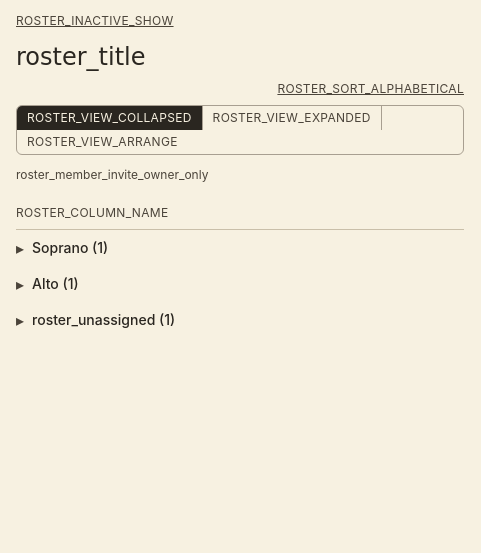
Test: /roster — control position (#468): upper right on the card, lifted by tree order alone › a row WITHOUT the controls still shows the section name in rowInfo (flat view) — nothing else on the card moves
Expected: the element with test id "roster-groups" is shown, x1=16 y1=230 x2=464 y2=338
Click the button with test id "roster-view-chip-expanded" at (292, 118), box x1=203 y1=106 x2=382 y2=130
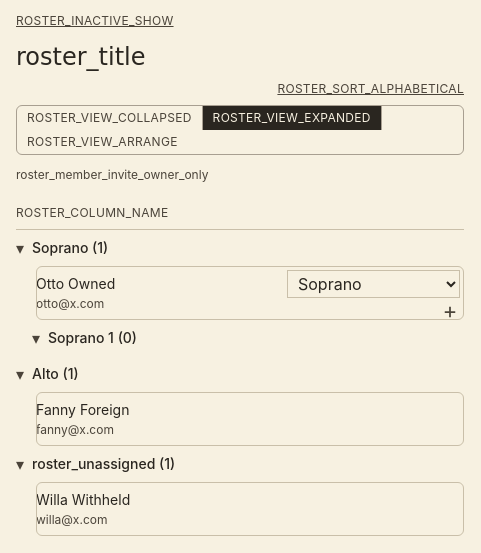
Now the list item with test id "roster-row-" is shown, box x1=36 y1=266 x2=464 y2=320
Click the button "roster_sort_alphabetical" at (371, 89), box x1=277 y1=81 x2=464 y2=97
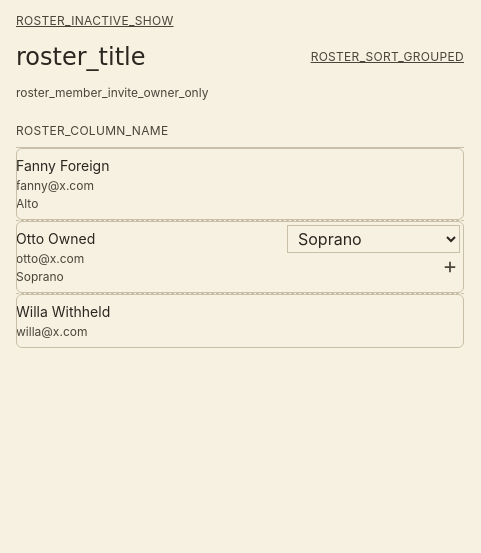
Expected: the text with test id "roster-row-section" reads "Alto", x1=16 y1=196 x2=38 y2=211
Now the list with test id "roster-flat-list" is shown, box x1=16 y1=148 x2=464 y2=348
